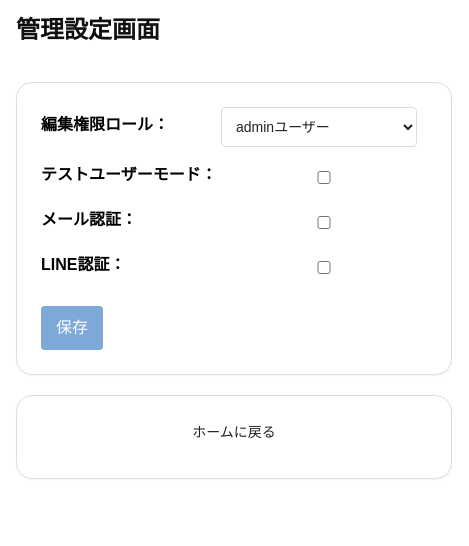
Scenario: RootSetting › 保存 例外：メッセージ「エラーが発生しました。」、dirty 継続
Expected: the dropdown is shown, [221,107,417,147]
Click the checkbox next to "LINE認証：": (324, 268) [221,261,427,274]
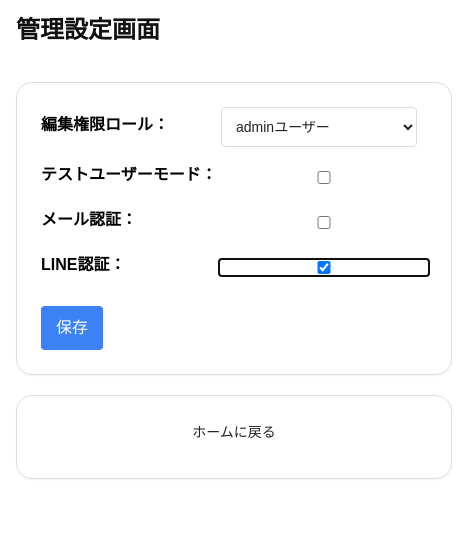
Click the button "保存": (72, 328) [41,306,103,350]
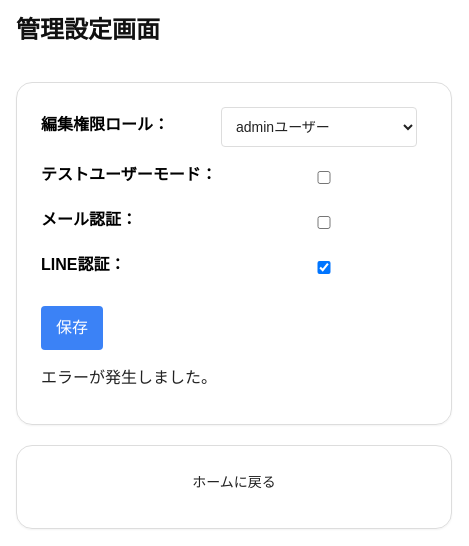
Result: the button "保存" is enabled at [41,306,103,350]
Result: the text "エラーが発生しました。" is shown at [41,369,217,386]
